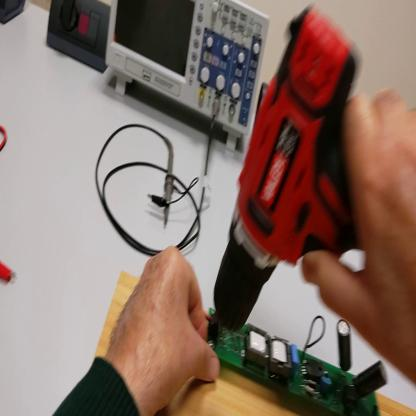electric screwdriver: (212, 3, 363, 336)
hand: (302, 87, 416, 382), (110, 246, 220, 407)
high voltage board: (210, 316, 392, 416)
oscilloscope: (106, 1, 270, 157)
oscilloscope probe tip: (162, 141, 176, 228)
socket: (47, 3, 112, 75), (2, 1, 26, 24)
working area: (98, 269, 416, 416)
